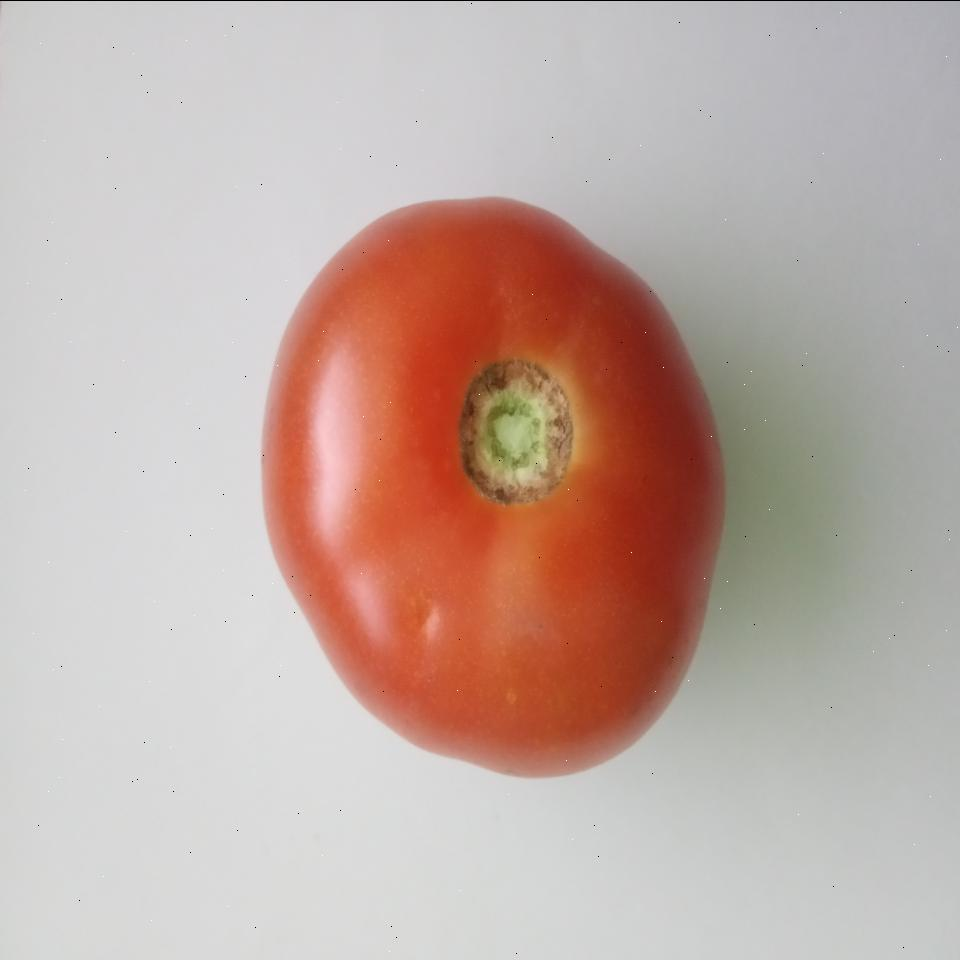Healthy: (248, 187, 730, 787)
